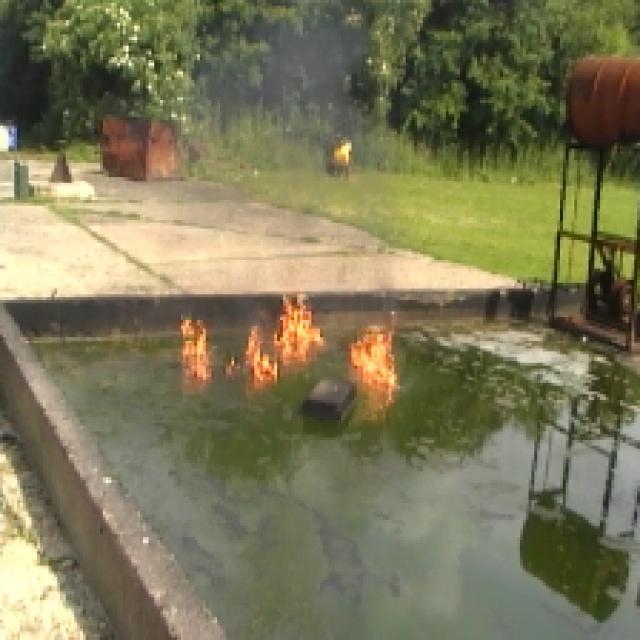Fire: (168, 298, 399, 394)
